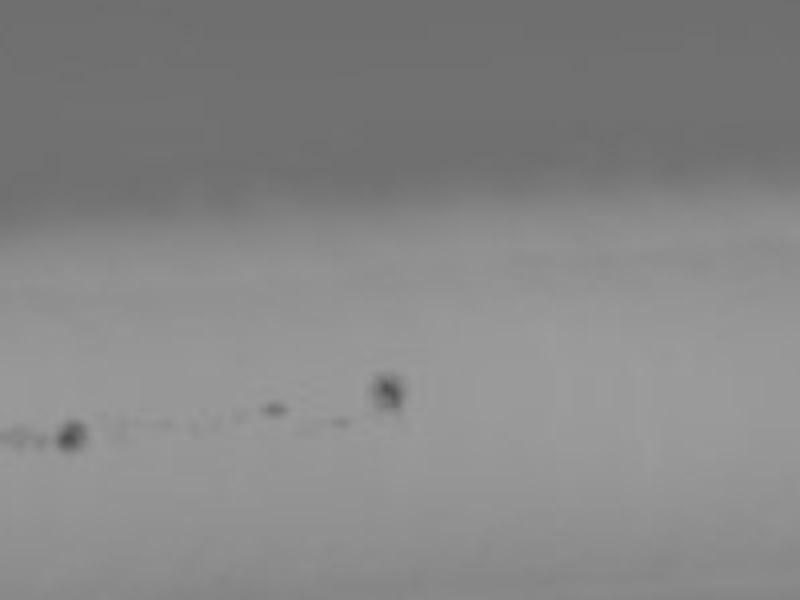defect: (373, 375, 411, 411), (60, 421, 89, 452), (4, 420, 32, 452), (261, 402, 289, 418), (328, 417, 354, 434), (36, 435, 48, 451)
